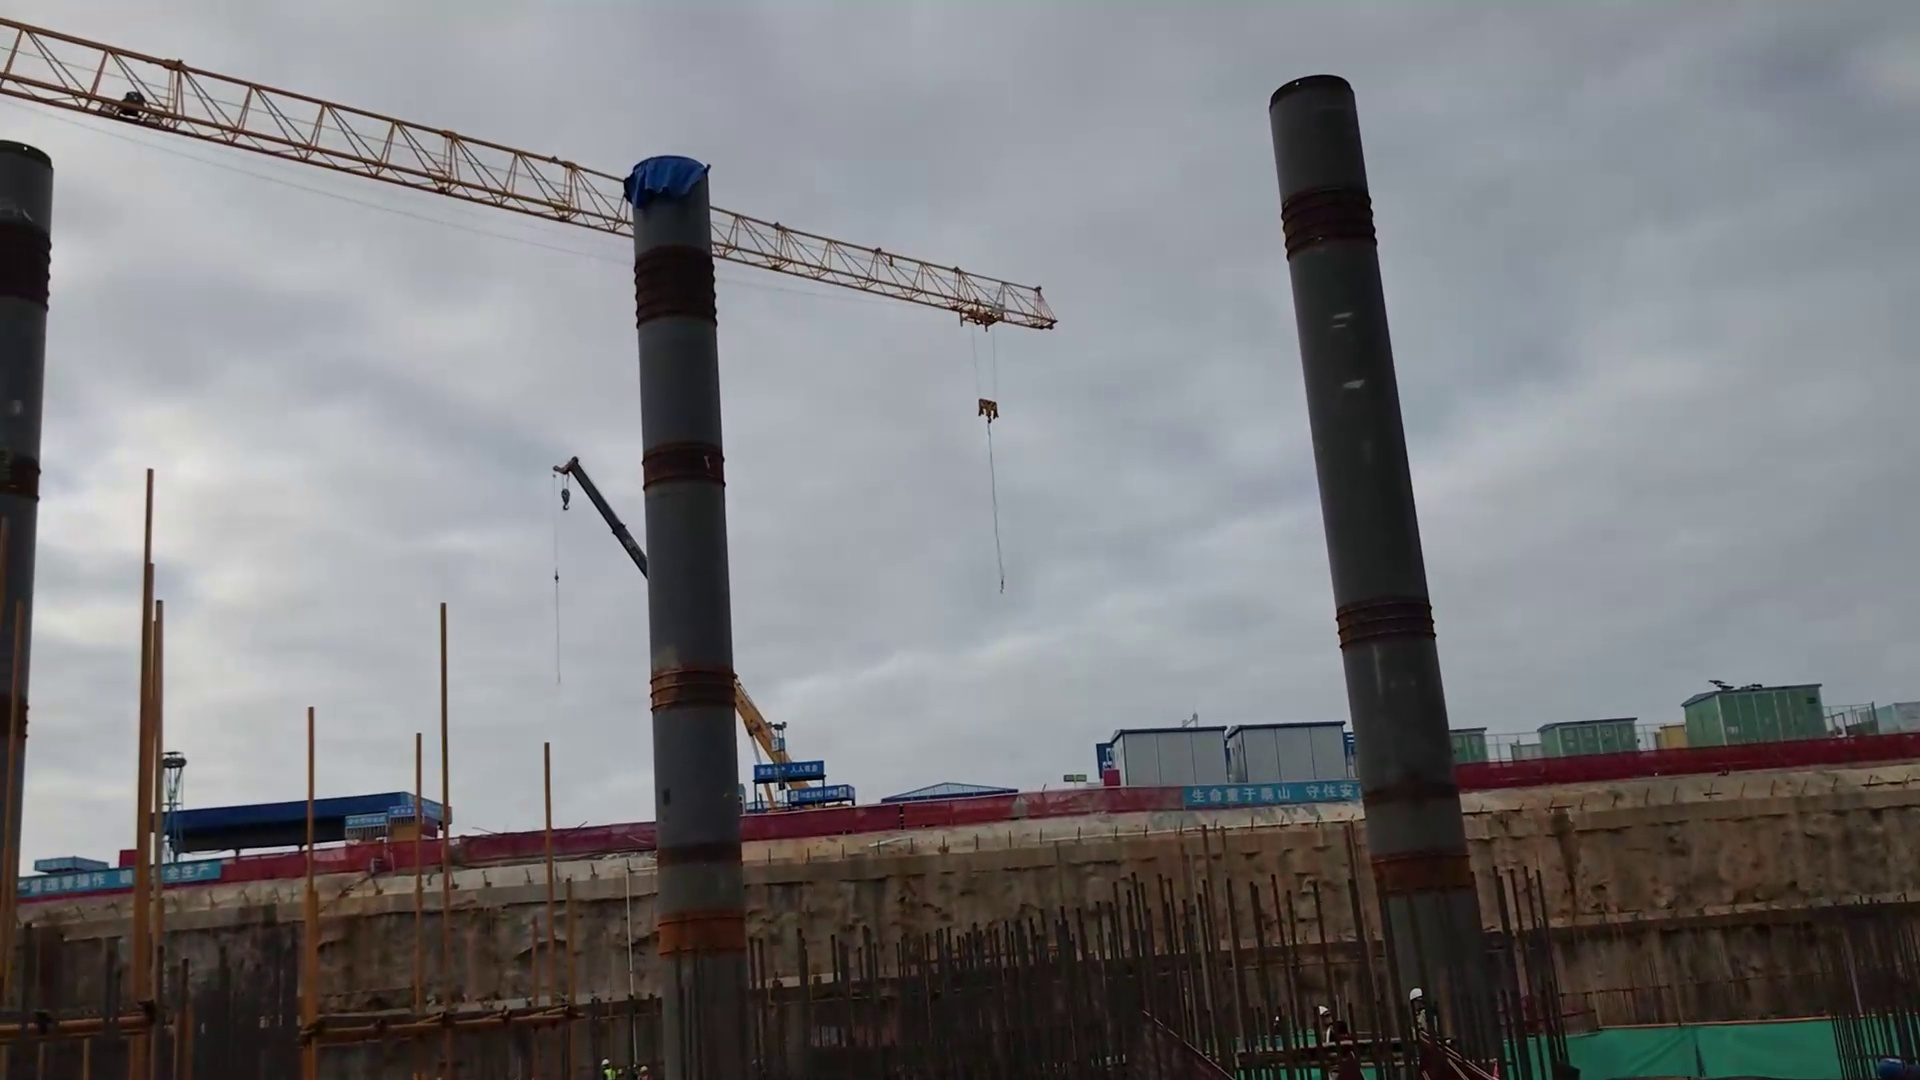fence: (744, 767, 1193, 849), (1451, 734, 1920, 799), (241, 812, 636, 884)
helmet: (1405, 985, 1425, 1004), (1317, 1002, 1330, 1021), (601, 1058, 611, 1065), (641, 1066, 649, 1071)
hook: (978, 398, 998, 422), (559, 485, 573, 511)
person: (1312, 1001, 1356, 1051), (1410, 982, 1445, 1032), (602, 1058, 621, 1080), (636, 1063, 644, 1080)
slogan: (1206, 772, 1339, 804), (28, 852, 196, 877)
vest: (1413, 1008, 1442, 1031), (1322, 1020, 1352, 1044), (605, 1070, 616, 1078), (640, 1073, 650, 1080)
